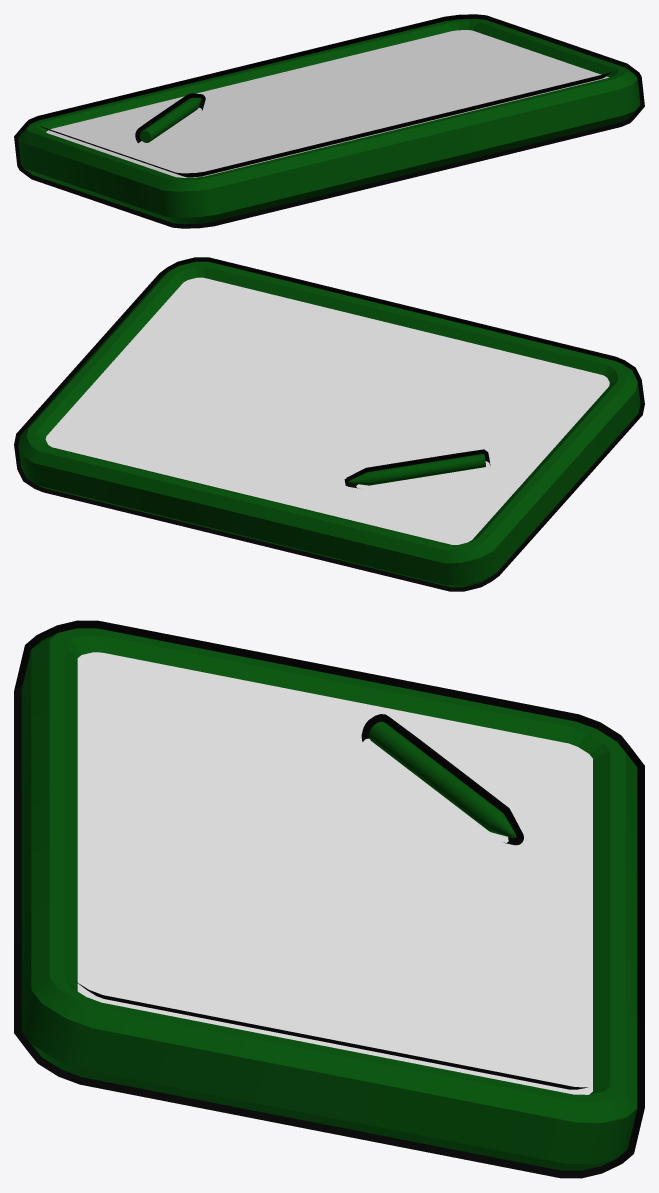
Rendered from TabletNew.FBX.
3 views of the same model, one above another, from view 1: azimuth 30°, elevation 25°; view 2: azimuth 150°, elevation 25°; view 3: azimuth 270°, elevation 25° (orthographic). The views are drawn at different scales.
Visible parts, largest first — view 1: Tablet, Screen, TabletOutline; view 2: Screen, Tablet, TabletOutline; view 3: Screen, Tablet, TabletOutline.
Boxes of the visible parts, box(x1,y1,x2,y2) form: Tablet: box(18, 18, 640, 224); Screen: box(46, 30, 608, 177); TabletOutline: box(14, 14, 644, 228); Screen: box(45, 277, 609, 544); Tablet: box(18, 261, 640, 587); TabletOutline: box(14, 257, 644, 591); Screen: box(77, 652, 592, 1094); Tablet: box(21, 628, 637, 1170); TabletOutline: box(14, 620, 644, 1178).
Size of the model in its own units: 0.6091 by 0.1385 by 0.4071.
